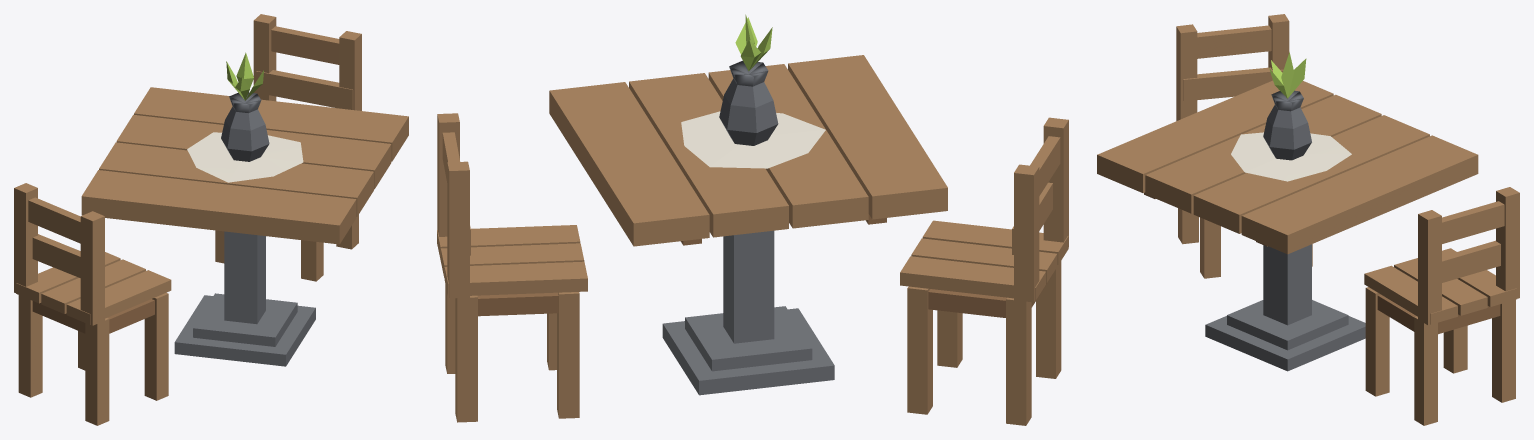
Rendered from table and chair.fbx.
3 views of the same model, side by side, from view 1: azimuth 30°, elevation 25°; view 2: azimuth 150°, elevation 25°; view 3: azimuth 270°, elevation 25° (orthographic). The views are drawn at different scales.
Parts seen in each view (by area): view 1: OutdoorTable, Chair_Left, Chair_Right; view 2: OutdoorTable, Chair_Left, Chair_Right; view 3: OutdoorTable, Chair_Right, Chair_Left.
Part boxes in pixels (<box>): OutdoorTable: <box>81,52,408,366</box>; Chair_Left: <box>14,183,171,425</box>; Chair_Right: <box>215,14,361,281</box>; OutdoorTable: <box>549,14,947,395</box>; Chair_Left: <box>900,117,1068,425</box>; Chair_Right: <box>437,113,587,422</box>; OutdoorTable: <box>1097,52,1478,371</box>; Chair_Right: <box>1364,187,1519,425</box>; Chair_Left: <box>1176,14,1312,278</box>.
Bounding box in the file's own units: 185 × 119 × 160.
